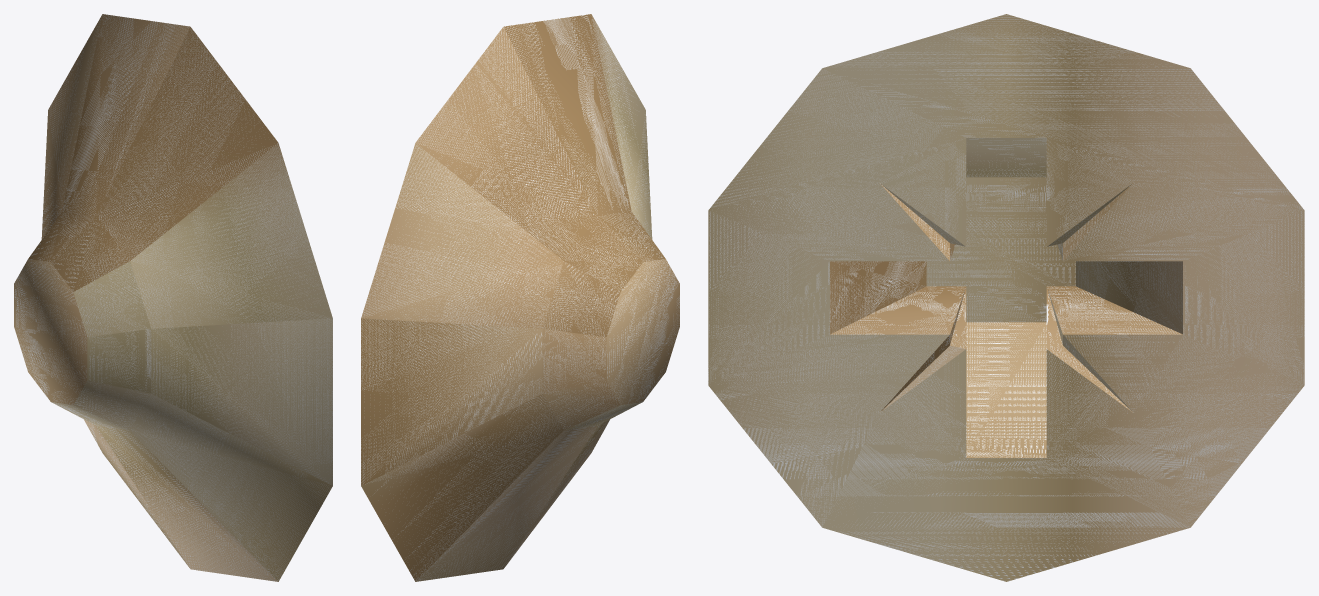
File: original-181.obj
3 views of the same model, side by side, from view 1: azimuth 30°, elevation 25°; view 2: azimuth 150°, elevation 25°; view 3: azimuth 270°, elevation 25° (orthographic). The views are drawn at different scales.
Parts seen in each view (by area): view 1: Group111/mesh183/mesh183-geometry#mesh183-geometry; view 2: Group111/mesh183/mesh183-geometry#mesh183-geometry; view 3: Group111/mesh183/mesh183-geometry#mesh183-geometry.
Part boxes in pixels (x1,y1,x2,y2): Group111/mesh183/mesh183-geometry#mesh183-geometry: (14, 14, 332, 581); Group111/mesh183/mesh183-geometry#mesh183-geometry: (361, 14, 679, 581); Group111/mesh183/mesh183-geometry#mesh183-geometry: (708, 14, 1304, 581).
Size of the model in its own units: 0.0053 by 0.0197 by 0.0187.
